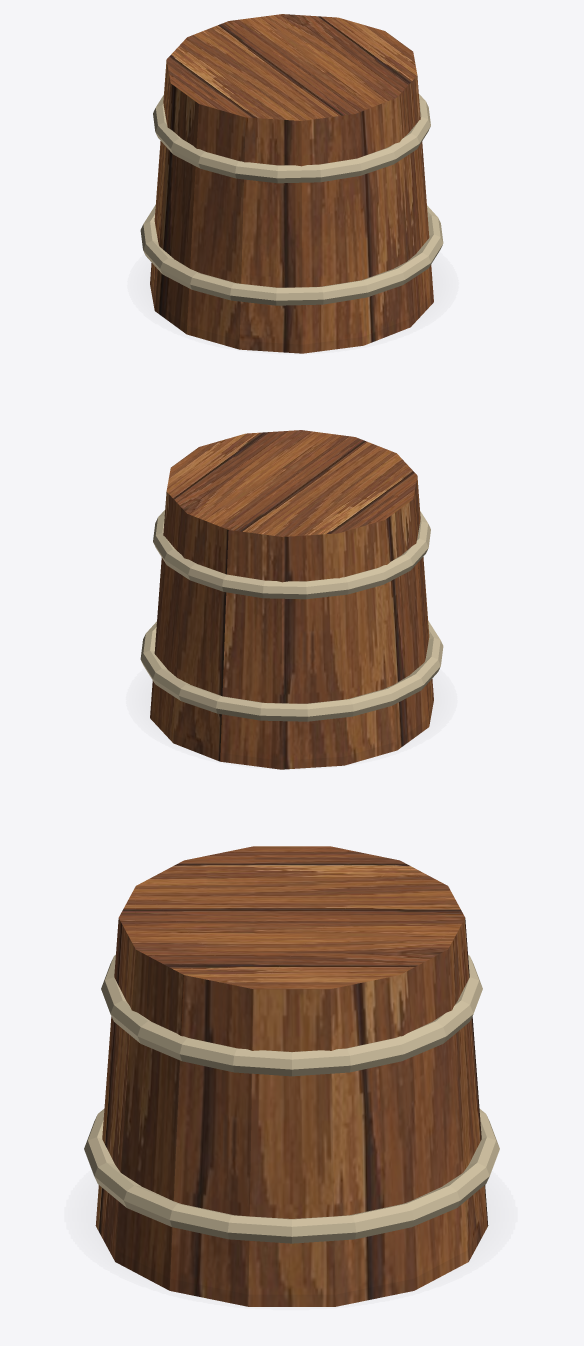
File: bucket.glb
3 renders of one model, top to bottom at view 1: azimuth 30°, elevation 25°; view 2: azimuth 150°, elevation 25°; view 3: azimuth 270°, elevation 25°, orthographic. The views are drawn at different scales.
Parts seen in each view (by area): view 1: body, bandLo, bandHi; view 2: body, bandLo, bandHi; view 3: body, bandLo, bandHi.
Part boxes in pixels (x1,y1,x2,y2): body: (150,14,433,353); bandLo: (140,205,443,305); bandHi: (153,93,430,183); body: (150,430,433,769); bandLo: (140,621,443,721); bandHi: (153,509,430,599); body: (95,846,488,1306); bandLo: (84,1109,499,1243); bandHi: (101,954,482,1076).
Bounding box in the file's own units: 0.85 × 0.52 × 0.85.
4 materials, 2 textured.
